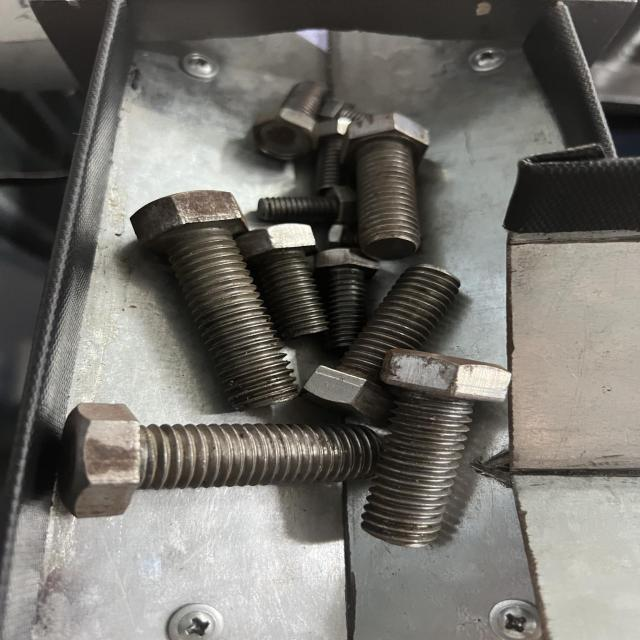bolt: (124, 191, 295, 404), (359, 354, 540, 545), (64, 403, 378, 513)
